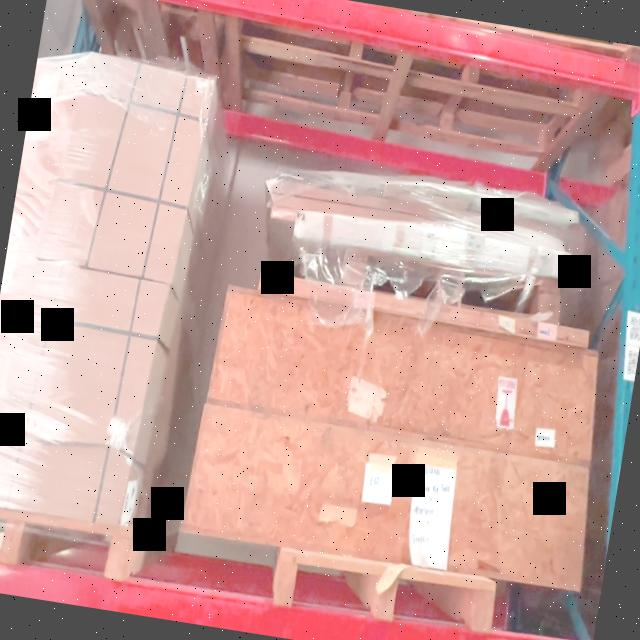box: (184, 407, 588, 590), (208, 292, 600, 462), (0, 263, 158, 523), (46, 57, 205, 280)
